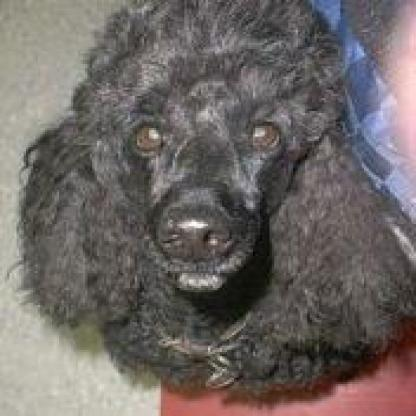miniature_poodle: (16, 0, 409, 397)
